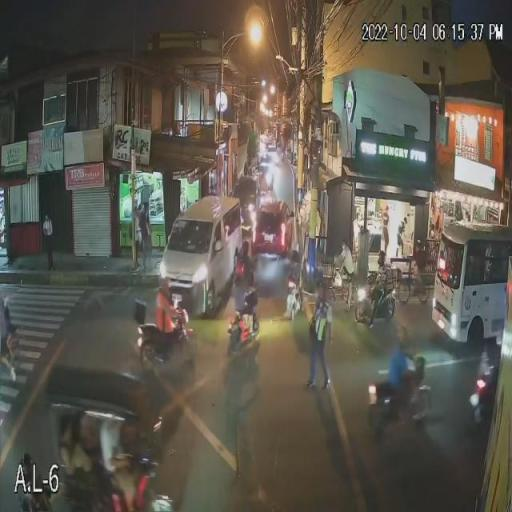helmet: (233, 261, 246, 278), (377, 250, 386, 265)
motorcycle: (366, 359, 441, 440), (133, 296, 200, 370), (353, 270, 399, 332), (226, 300, 263, 358), (468, 366, 496, 423), (284, 278, 306, 322)
rider: (386, 324, 425, 395), (365, 251, 393, 329), (230, 261, 259, 330), (154, 278, 188, 334), (473, 337, 500, 386), (286, 255, 302, 300)
